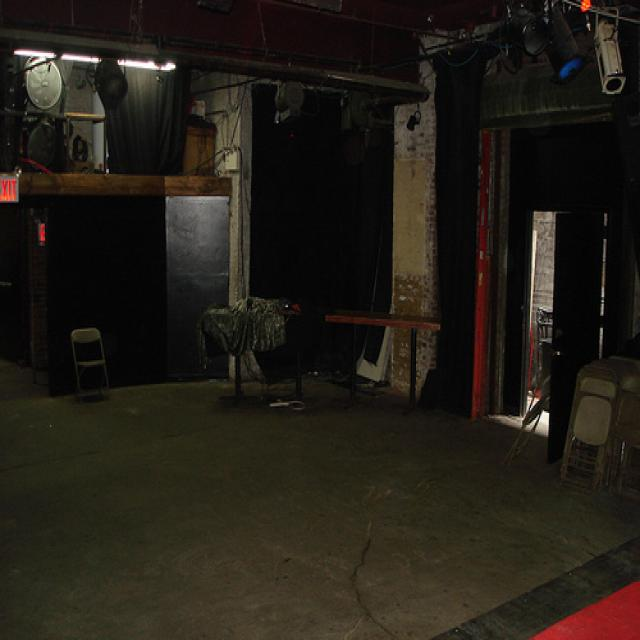Table: (199, 271, 312, 417), (334, 298, 463, 411)
chair: (56, 304, 123, 420), (567, 361, 614, 496)
